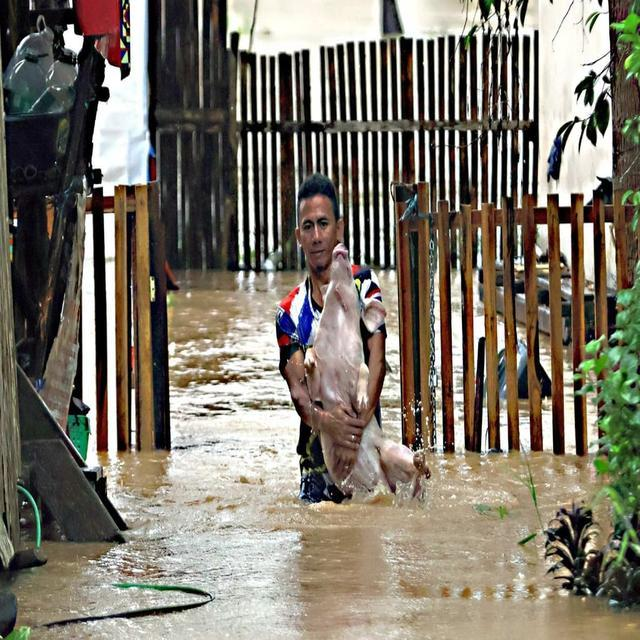Person-RiskLevel3: (267, 168, 407, 515)
